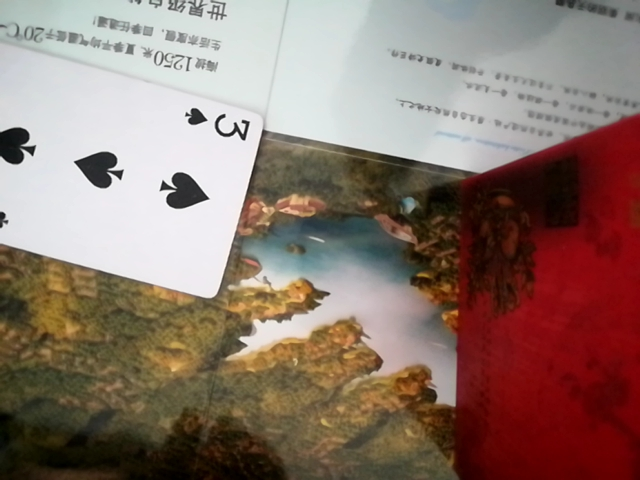ht 3: (1, 31, 262, 299)
